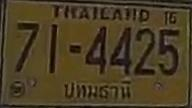1: (48, 23, 56, 72)
2: (134, 27, 154, 74)
4: (109, 26, 131, 74), (85, 25, 106, 73)
5: (158, 28, 180, 75)
7: (15, 22, 38, 72)
PTE: (60, 79, 136, 100)
